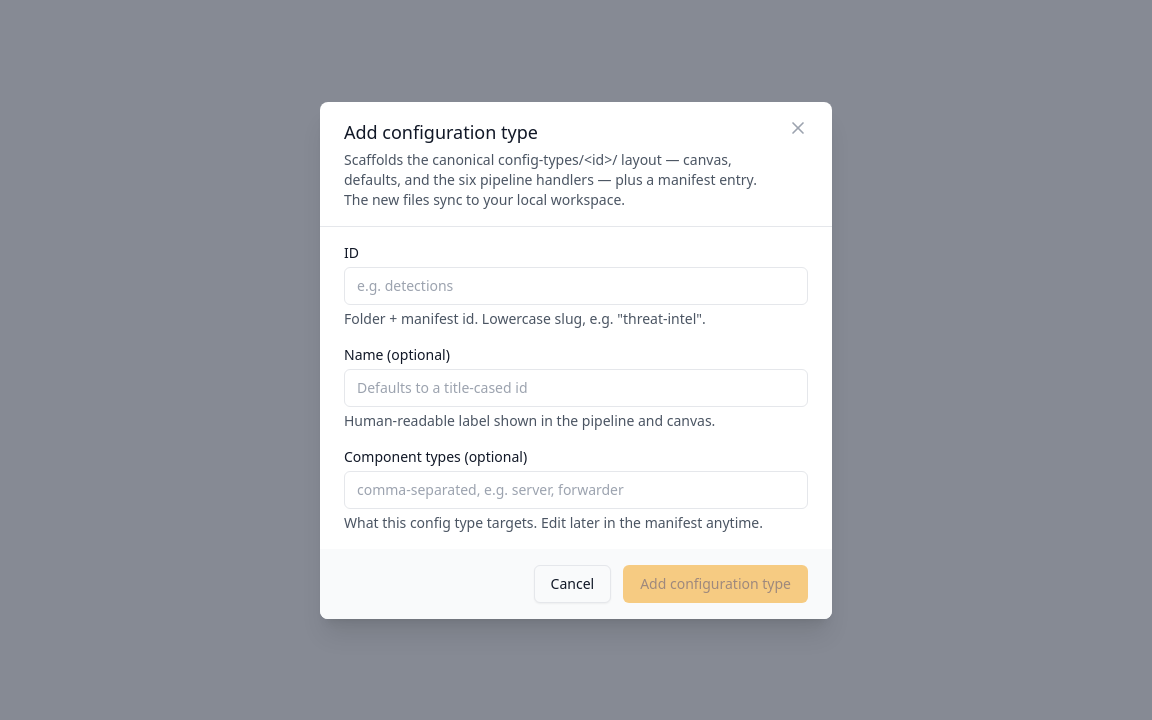
AddConfigTypeDialog › surfaces a server error and keeps the dialog open
Type "policies" into the field labelled "ID". click: (576, 286)
box: [344,266,808,304]
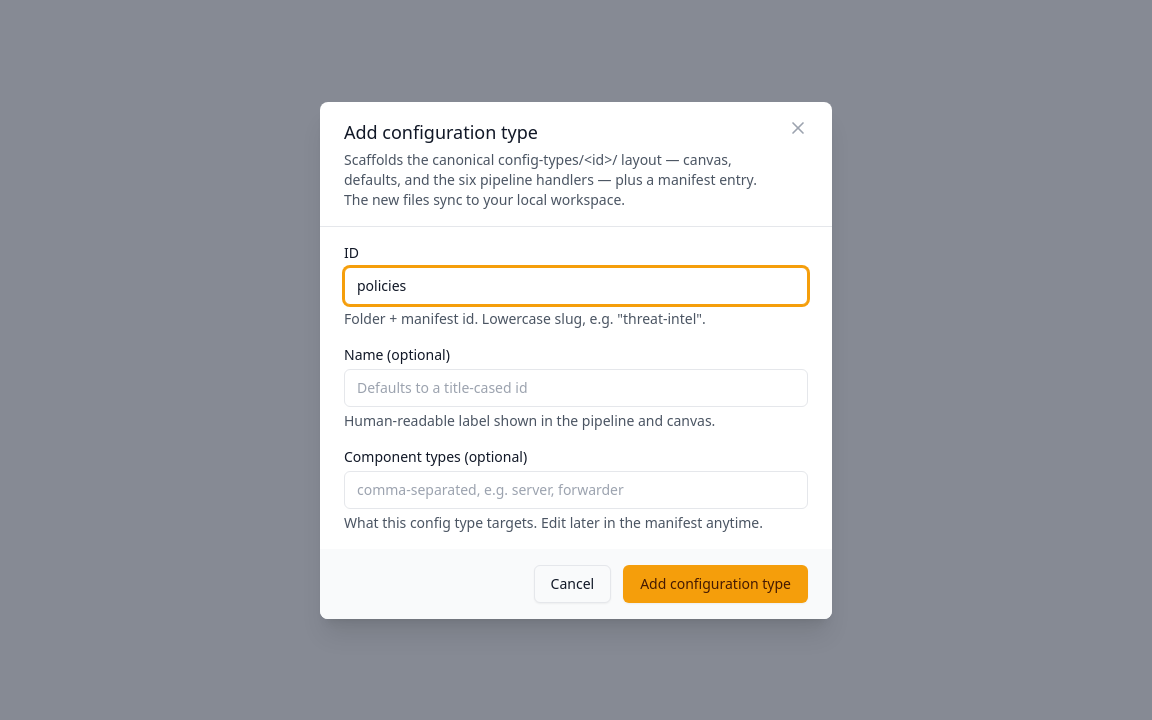
Check: the button "Add configuration type" is enabled
Click the button "Add configuration type". click: (716, 584)
box: [623,564,808,602]
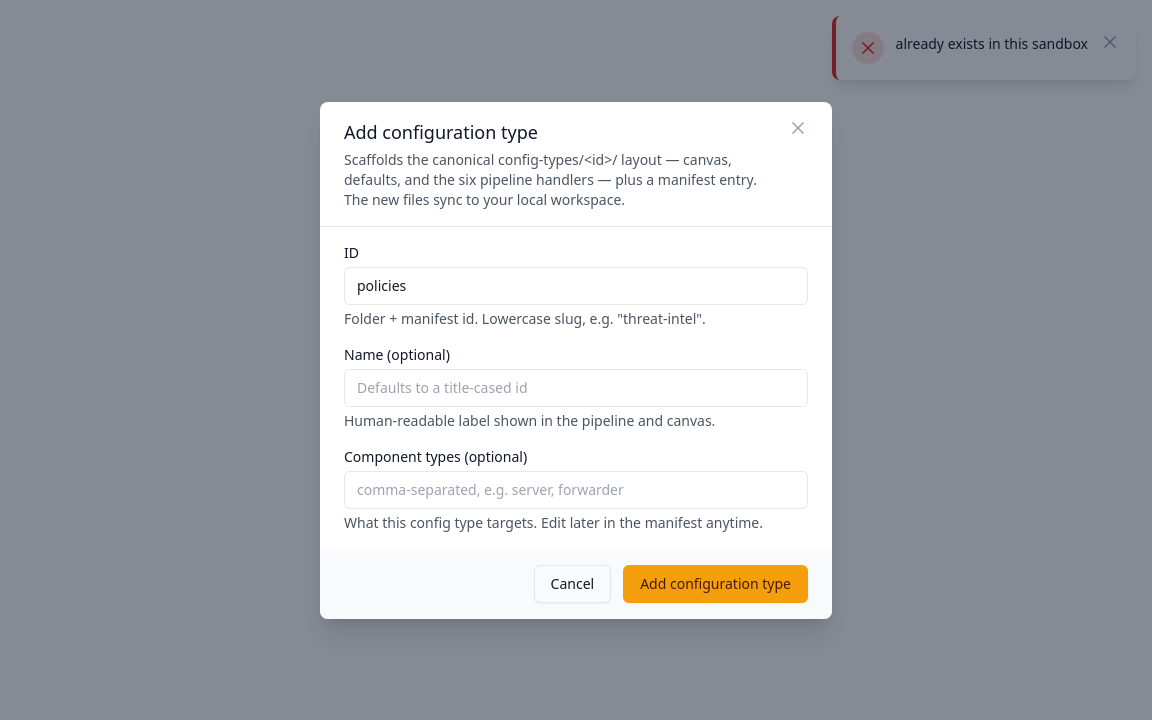
Check: the text "already exists in this sandbox" is shown, box [896,34,1088,54]
